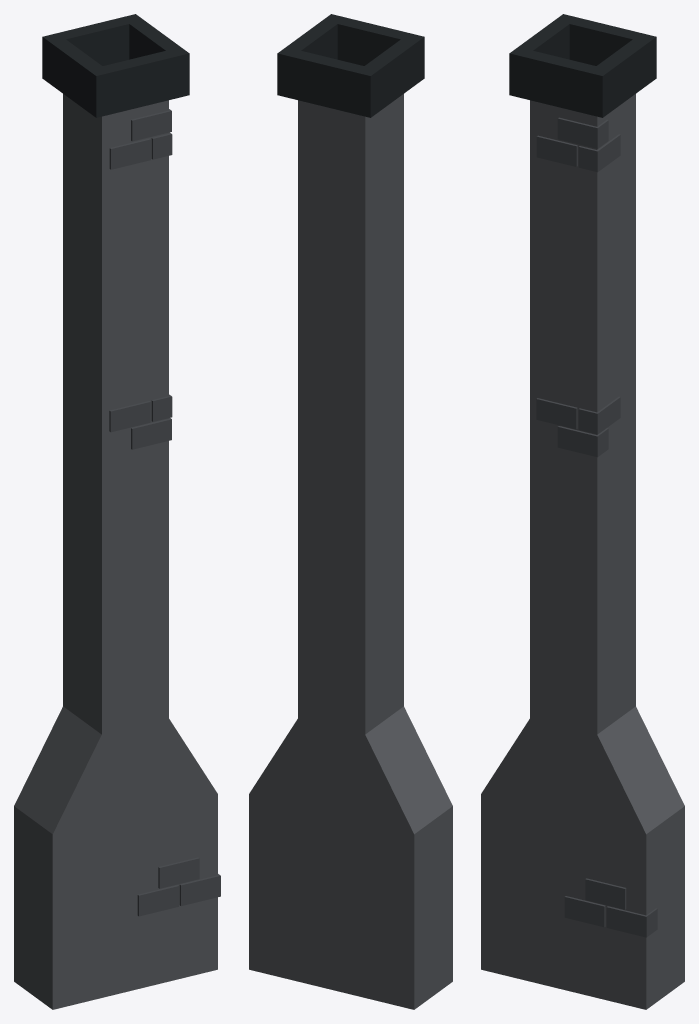
File: Chimney3_C4.fbx
3 renders of one model, left to right at view 1: azimuth 30°, elevation 25°; view 2: azimuth 150°, elevation 25°; view 3: azimuth 330°, elevation 25°, orthographic.
Parts seen in each view (by area): view 1: Chimney3_C4; view 2: Chimney3_C4; view 3: Chimney3_C4.
Part boxes in pixels (x1,y1,x2,y2): Chimney3_C4: (14,14,220,1009); Chimney3_C4: (249,14,452,1009); Chimney3_C4: (481,14,684,1009).
Bounding box in the file's own units: 0.9944 × 5.3 × 0.5559.
